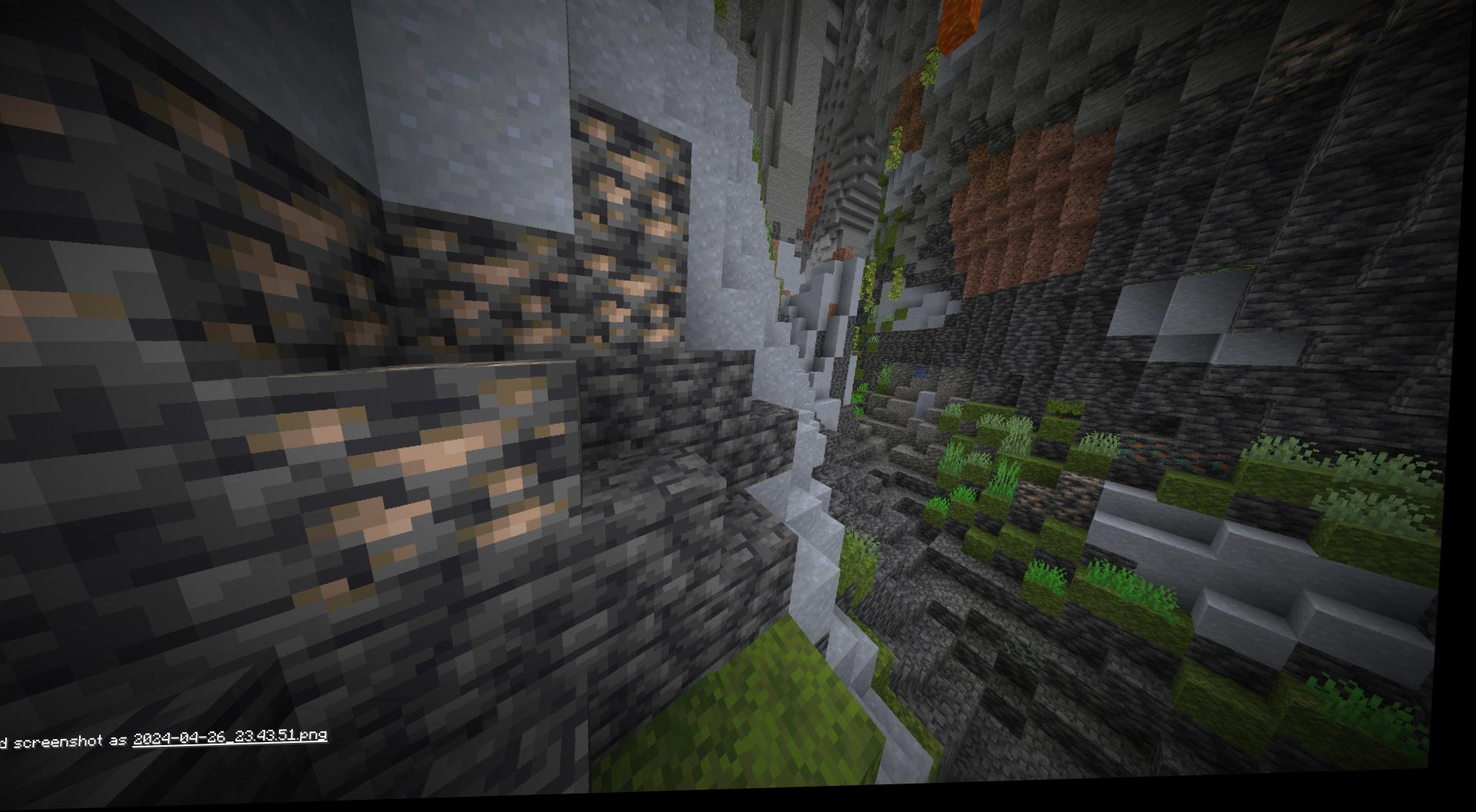iron ore: (241, 371, 586, 577), (170, 151, 393, 371), (395, 218, 568, 360), (566, 115, 691, 240), (581, 251, 696, 352), (1265, 36, 1361, 108), (1062, 477, 1104, 530), (1023, 488, 1062, 523)
